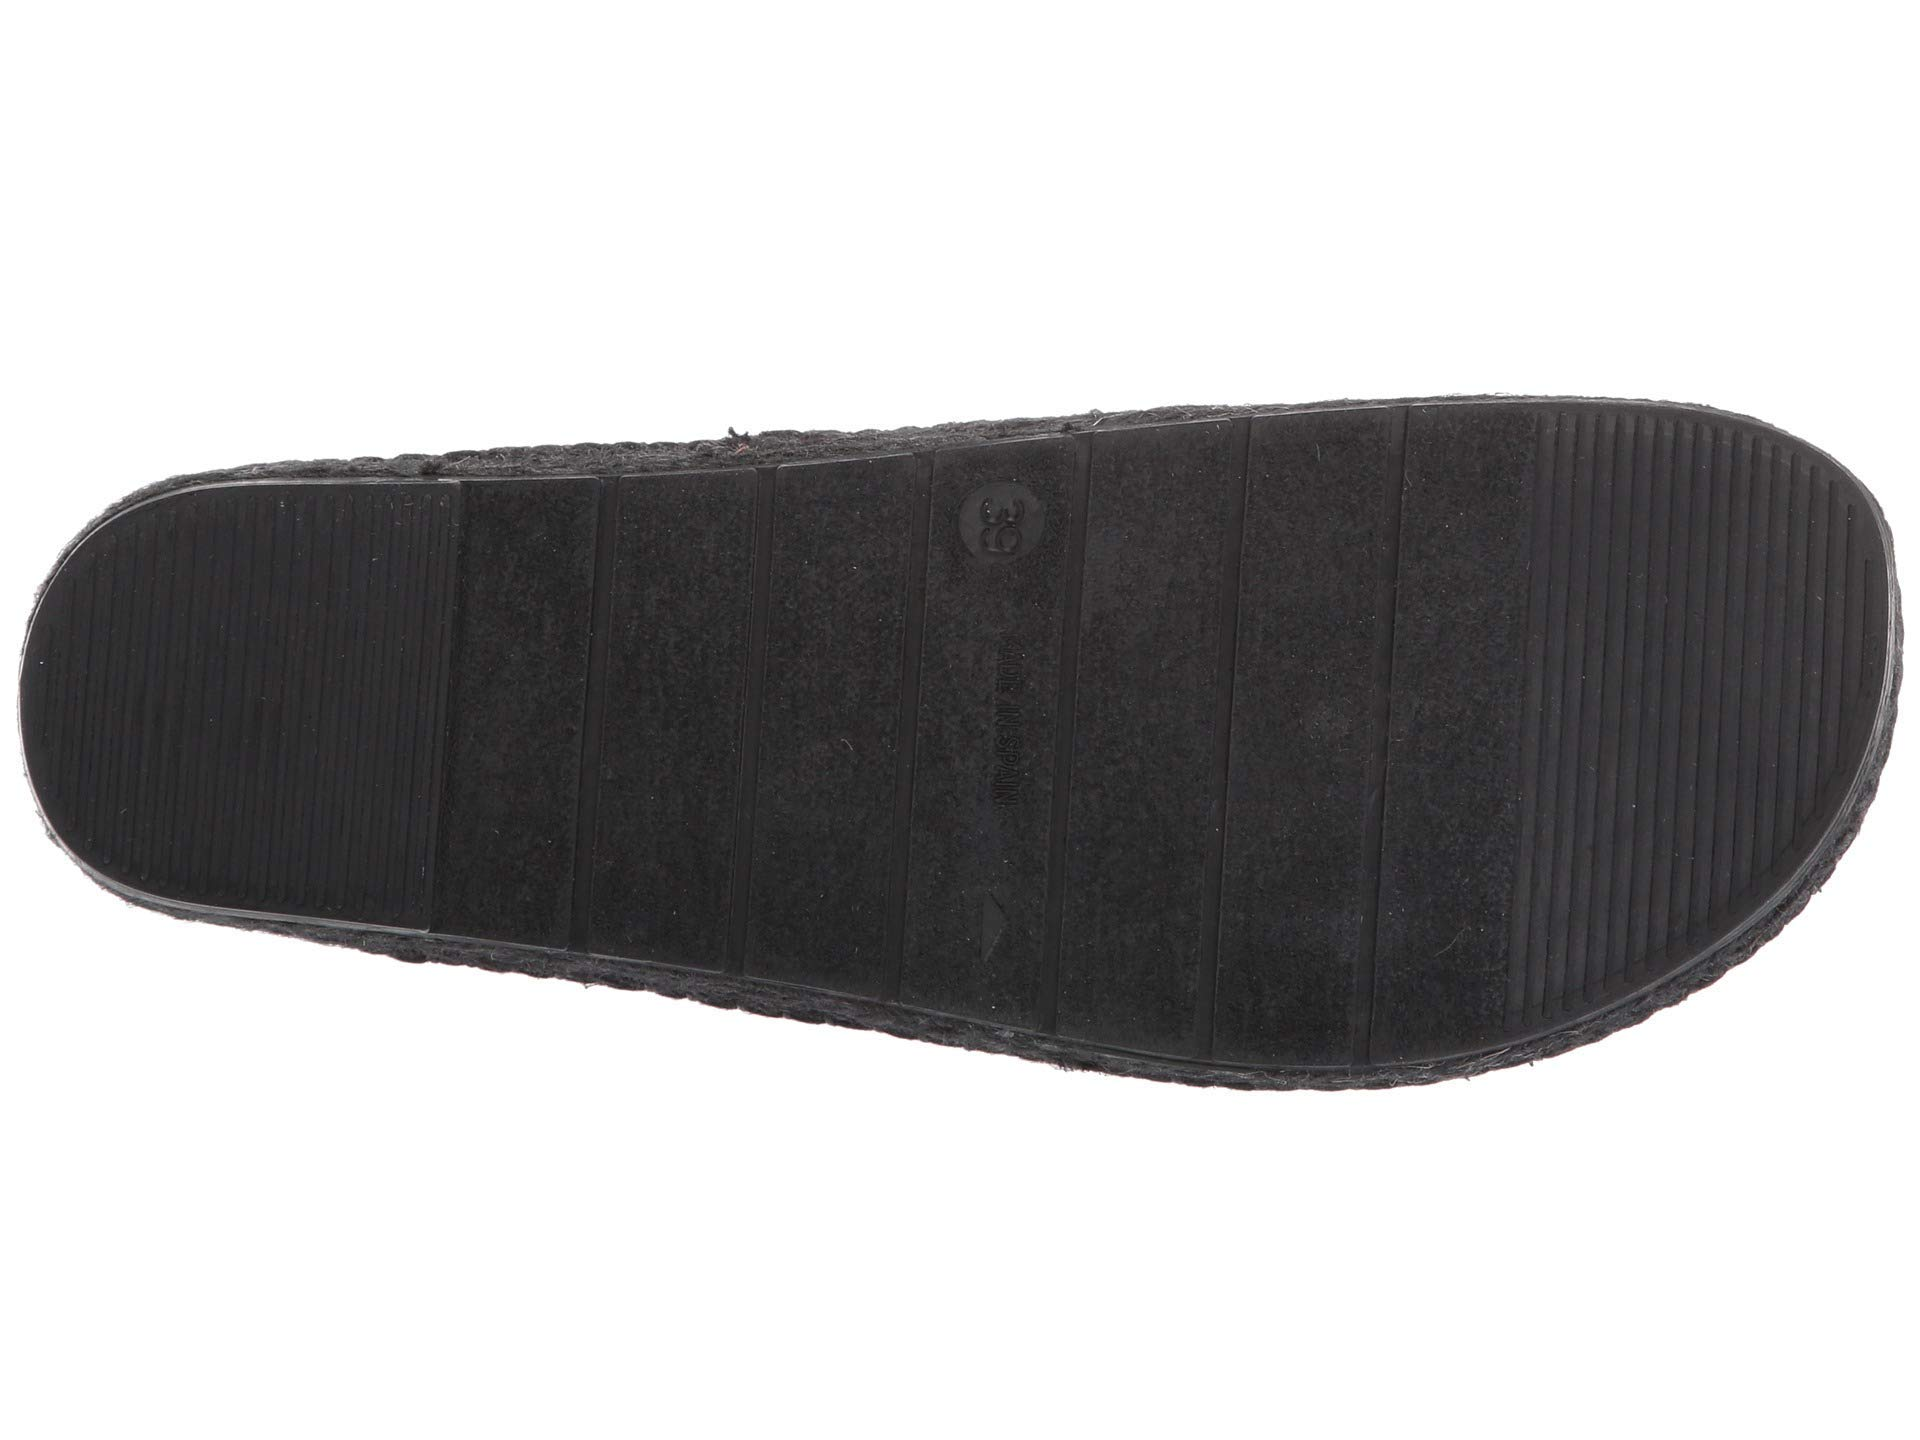circle: (924, 460, 1073, 579)
line: (553, 629, 1101, 873), (1531, 439, 1798, 867), (110, 535, 443, 874), (1163, 585, 1469, 871), (924, 460, 1073, 579)
